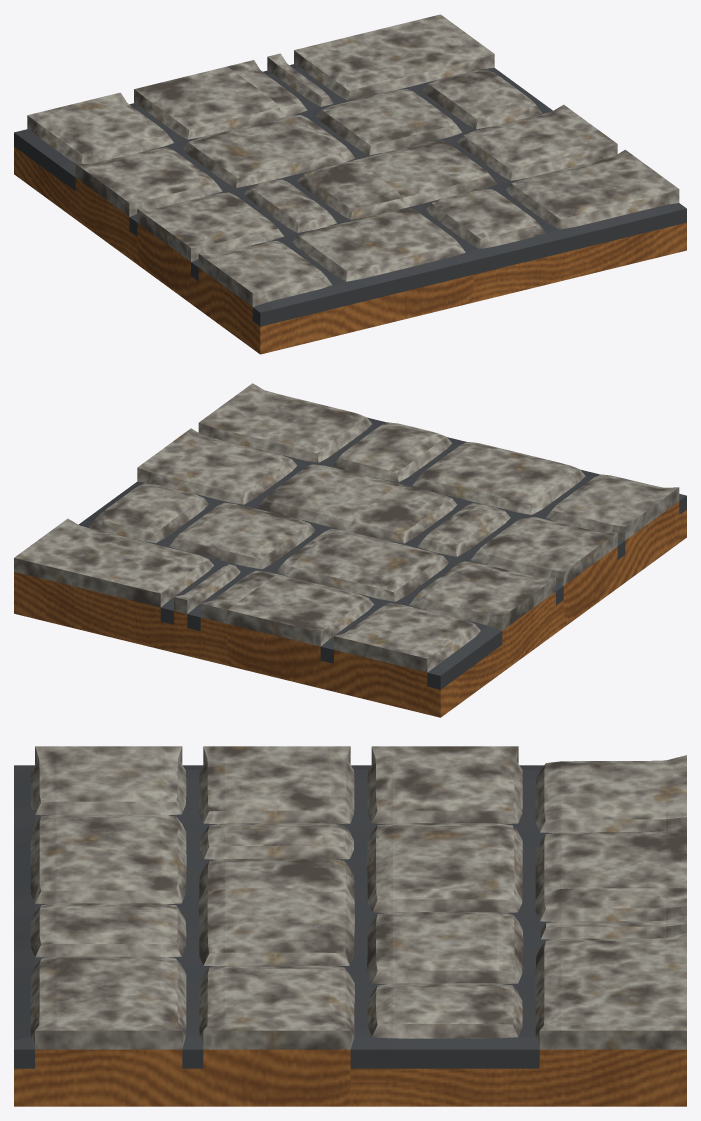
File: floor_in_stone.glb
3 views of the same model, one above another, from view 1: azimuth 30°, elevation 25°; view 2: azimuth 150°, elevation 25°; view 3: azimuth 270°, elevation 25° (orthographic). The views are drawn at different scales.
Visible parts, largest first — view 1: town_floor_in_stone; view 2: town_floor_in_stone; view 3: town_floor_in_stone.
Boxes of the visible parts, x1,y1,x2,y2 form: town_floor_in_stone: (14,14,686,354); town_floor_in_stone: (14,383,686,717); town_floor_in_stone: (14,746,686,1106).
Bounding box in the file's own units: 1 × 0.125 × 1.
Materials: 2 (1 with a texture image).
